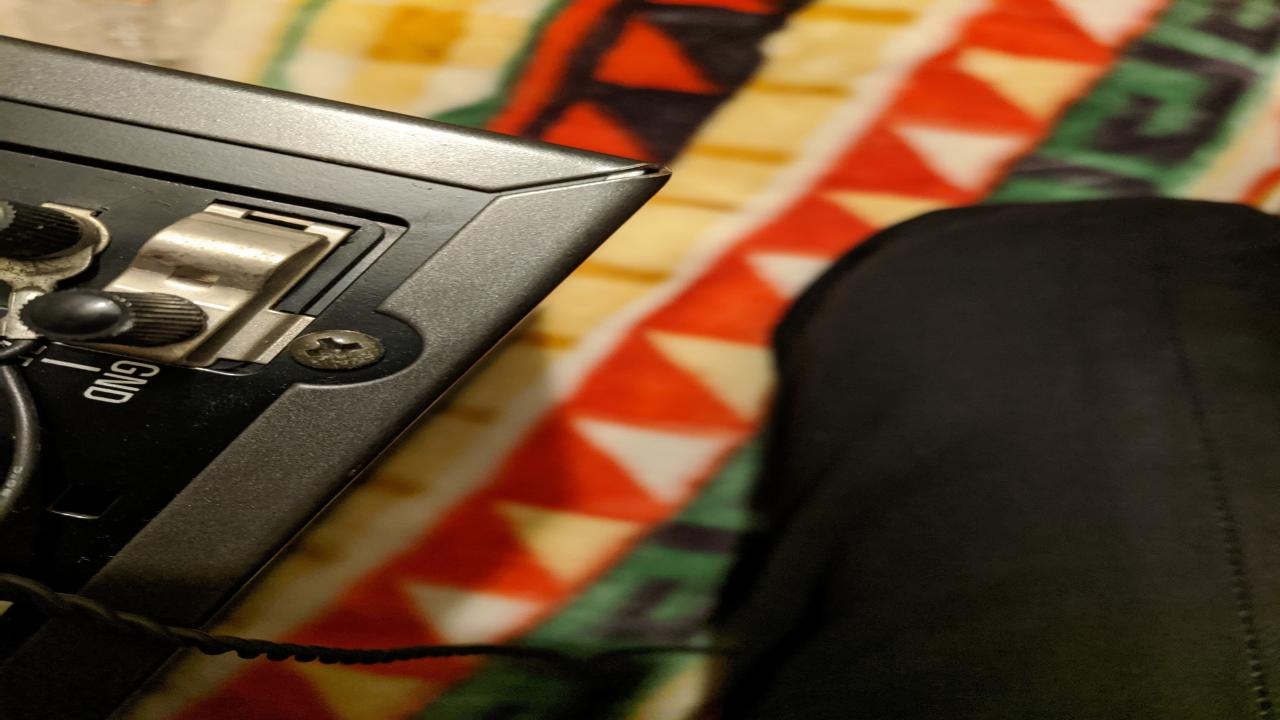CRS: (287, 329, 382, 370)
